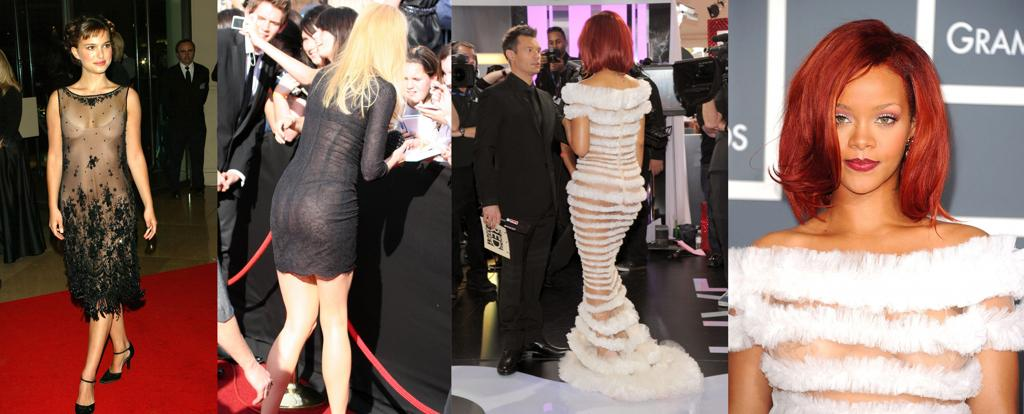face: (819, 75, 908, 192), (78, 34, 112, 72), (249, 6, 280, 43), (512, 36, 541, 72), (401, 66, 429, 102), (301, 23, 324, 63), (313, 20, 337, 56), (456, 48, 476, 72), (548, 34, 566, 55), (179, 44, 194, 62)
